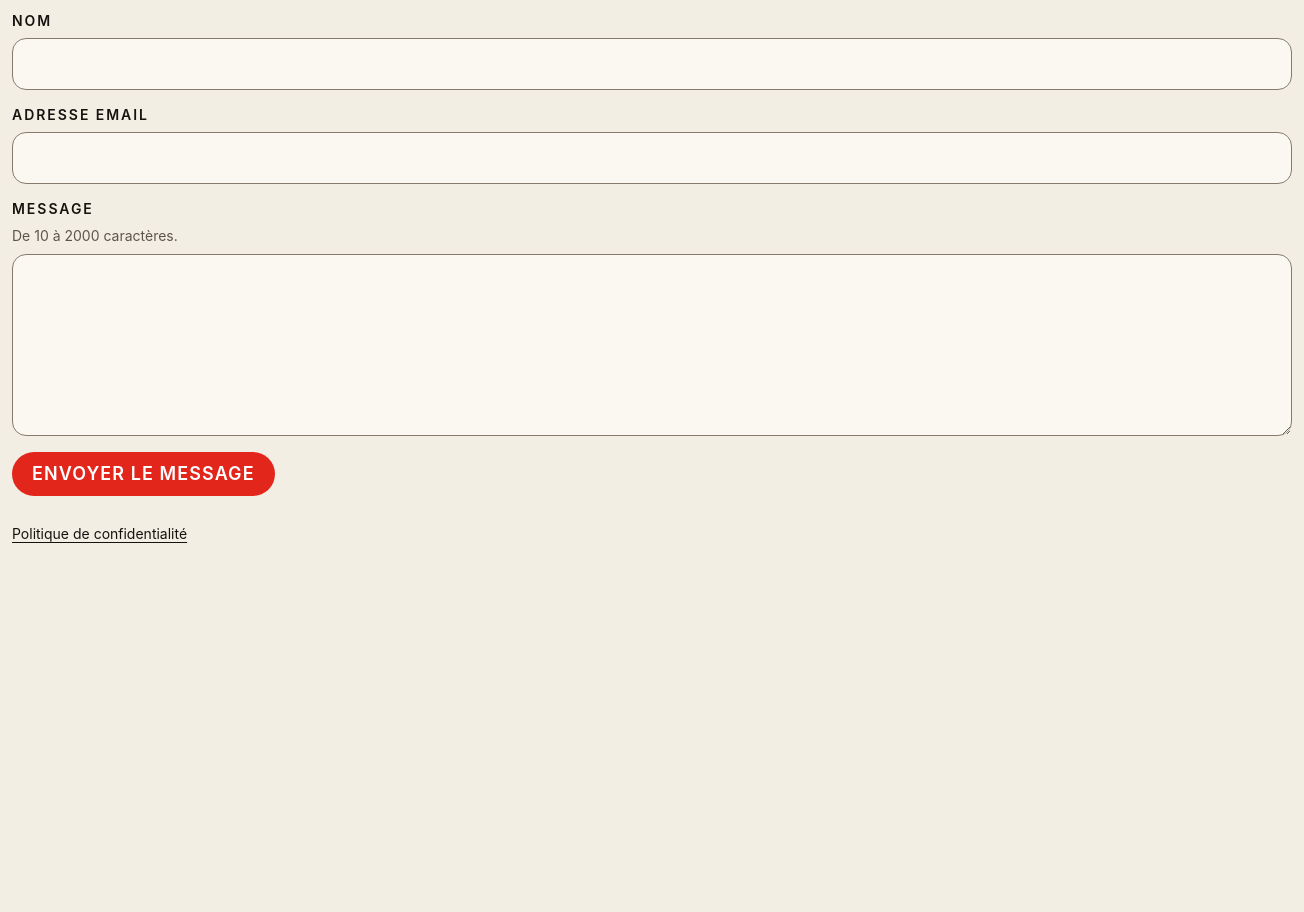
Test case: FormulaireContact › limite atteinte : message de réessai, saisie gardée, aucun succès
The image size is (1304, 912).
Type "TEST_Awa" into the field labelled "Nom" at (652, 64), box [12,38,1292,90]
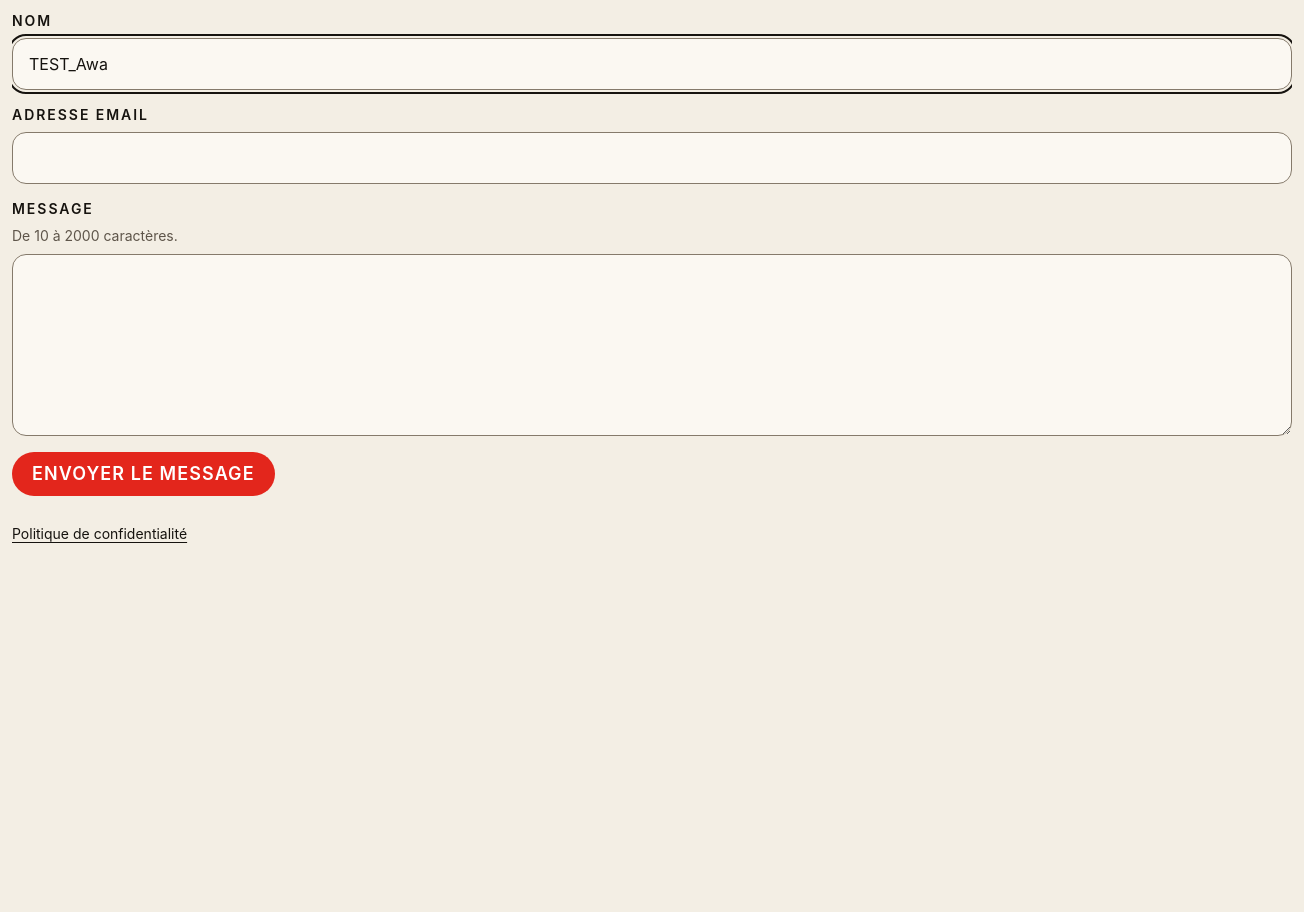
Click the button "Envoyer le message" at (143, 474), box [12,452,275,496]
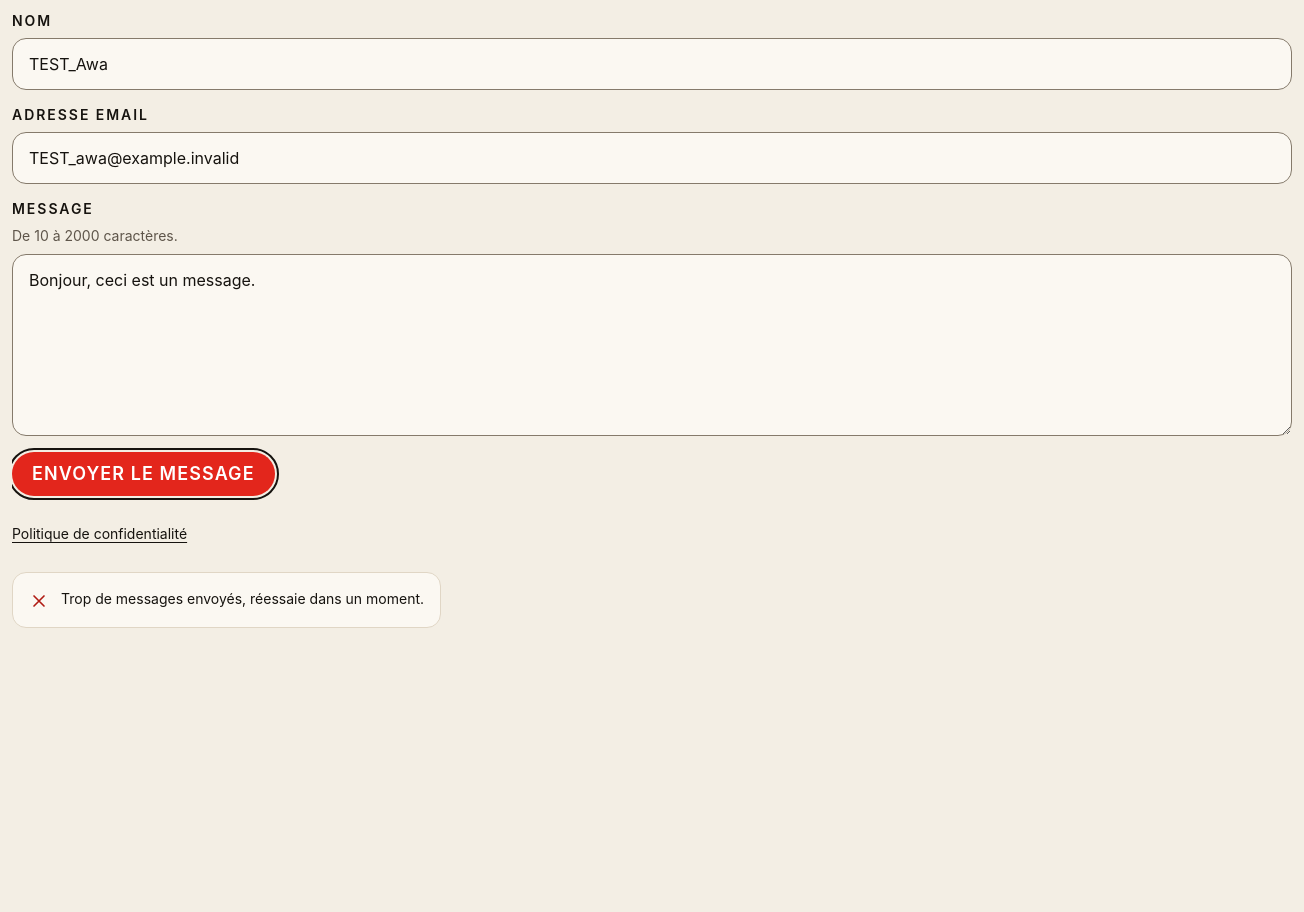
Expected: the text "Trop de messages envoyés, réessaie dans un moment." is shown, [61,589,424,609]
Expected: the field labelled "Adresse email" holds "TEST_awa@example.invalid", [12,132,1292,184]
